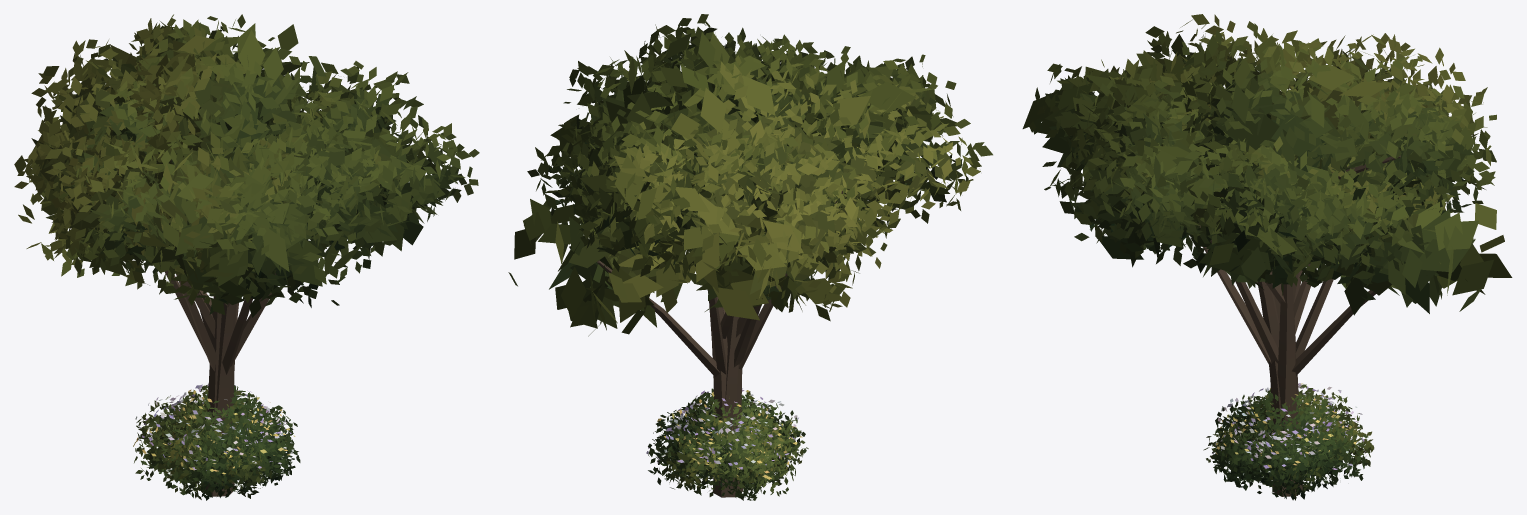
Rendered from foliage.glb.
The picture shows the model from 3 angles, left to right: view 1: azimuth 30°, elevation 25°; view 2: azimuth 150°, elevation 25°; view 3: azimuth 270°, elevation 25°; orthographic projection. The views are drawn at different scales.
Visible parts, largest first — view 1: tree_0_leaf, tree_1_leaf, tree_far_leaf, bloom_1_leaf, bloom_2_leaf, bloom_0_leaf, bush_1_leaf, bush_0_leaf, tree_1_wood, tree_0_wood; view 2: tree_far_leaf, tree_0_leaf, tree_1_leaf, bloom_1_leaf, bloom_0_leaf, bloom_2_leaf, bush_1_leaf, tree_far_wood, bush_0_leaf, tree_0_wood, tree_1_wood; view 3: tree_0_leaf, tree_far_leaf, tree_1_leaf, tree_far_wood, bloom_1_leaf, bloom_0_leaf, bloom_2_leaf, bush_1_leaf, bush_0_leaf, tree_1_wood, tree_0_wood.
Boxes of the visible parts, box(x1,y1,x2,y2) form: tree_0_leaf: box(14, 14, 479, 285); tree_1_leaf: box(18, 41, 428, 317); tree_far_leaf: box(24, 22, 445, 299); bloom_1_leaf: box(135, 384, 295, 485); bloom_2_leaf: box(133, 388, 300, 494); bloom_0_leaf: box(137, 384, 293, 497); bush_1_leaf: box(149, 388, 298, 500); bush_0_leaf: box(155, 388, 272, 499); tree_1_wood: box(165, 160, 252, 496); tree_0_wood: box(176, 273, 276, 496); tree_far_leaf: box(508, 32, 956, 336); tree_0_leaf: box(550, 14, 992, 296); tree_1_leaf: box(527, 34, 913, 321); bloom_1_leaf: box(663, 388, 800, 487); bloom_0_leaf: box(646, 389, 801, 492); bloom_2_leaf: box(653, 390, 802, 500); bush_1_leaf: box(652, 392, 808, 500); tree_far_wood: box(597, 188, 770, 497); bush_0_leaf: box(656, 391, 803, 490); tree_0_wood: box(712, 191, 842, 497); tree_1_wood: box(721, 305, 761, 493); tree_0_leaf: box(1029, 14, 1496, 273); tree_far_leaf: box(1022, 35, 1512, 315); tree_1_leaf: box(1042, 28, 1495, 295); tree_far_wood: box(1266, 261, 1375, 496); bloom_1_leaf: box(1212, 384, 1362, 487); bloom_0_leaf: box(1214, 383, 1370, 491); bloom_2_leaf: box(1213, 383, 1357, 494); bush_1_leaf: box(1212, 384, 1368, 500); bush_0_leaf: box(1203, 390, 1374, 500); tree_1_wood: box(1203, 172, 1332, 496); tree_0_wood: box(1198, 155, 1400, 496).
Bounding box in the file's own units: 5.87 × 6.55 × 6.28.
